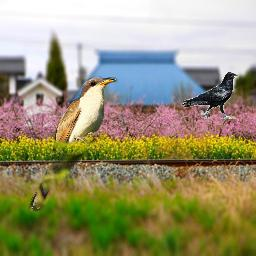Crow: (181, 72, 239, 119)
Cuckoo: (26, 74, 119, 215)
